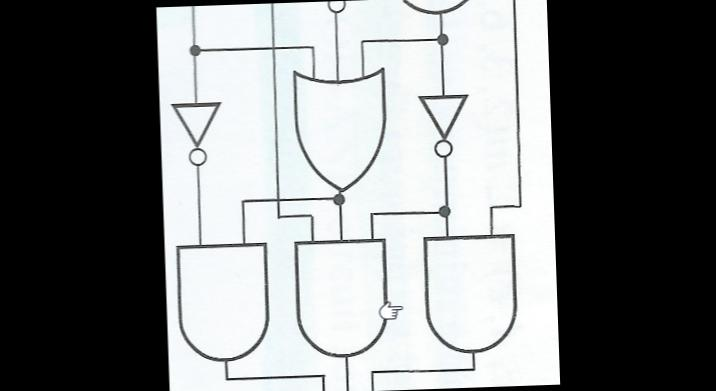and: (416, 226, 527, 358), (286, 230, 396, 362), (168, 234, 276, 363)
not: (414, 83, 476, 161), (169, 98, 229, 171), (309, 0, 366, 16)
or: (290, 62, 394, 192)
